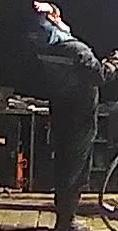gloves: (102, 47, 118, 76)
vest: (32, 45, 100, 141)
